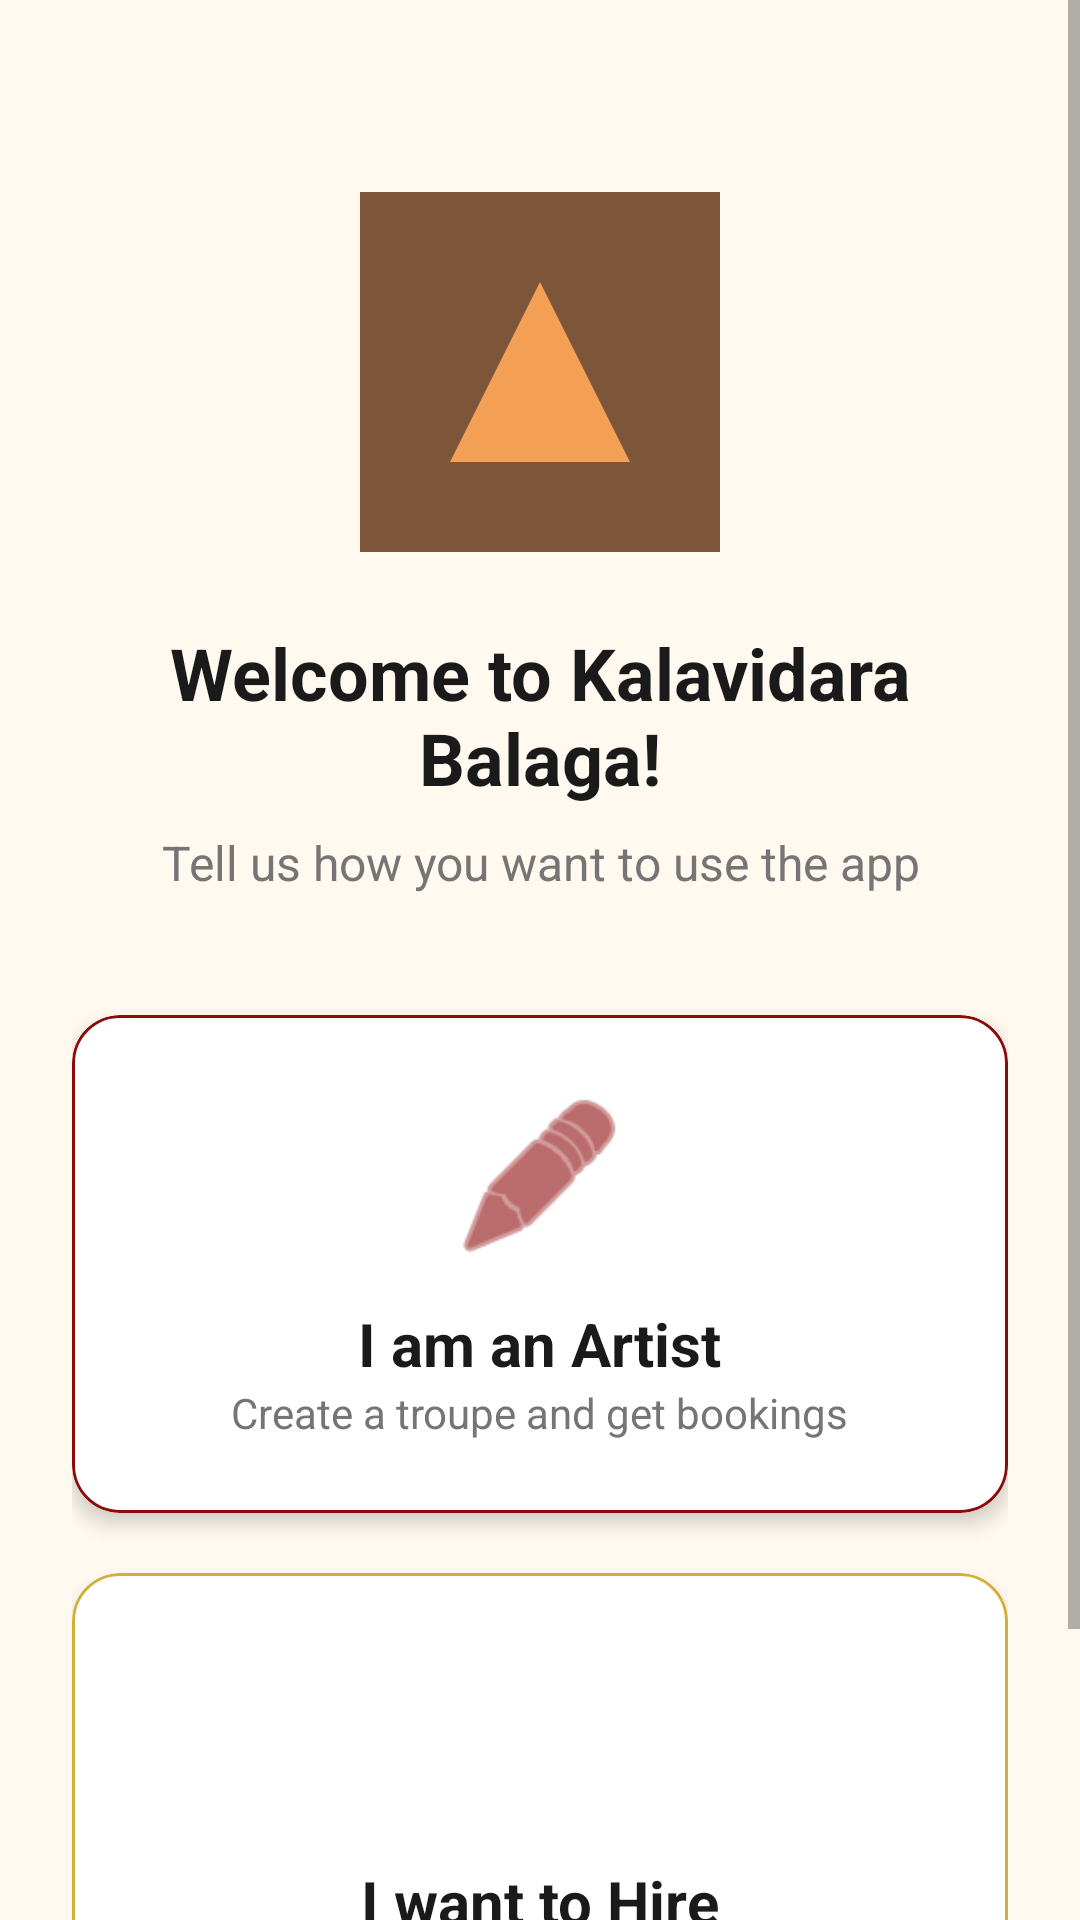

Where to tap for icons on this 1080w x 1920h app screen, as (x,y):
edit: (539,1176)
